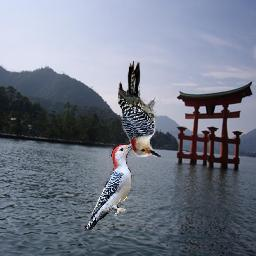Woodpecker: (84, 140, 139, 231), (119, 61, 162, 157)
